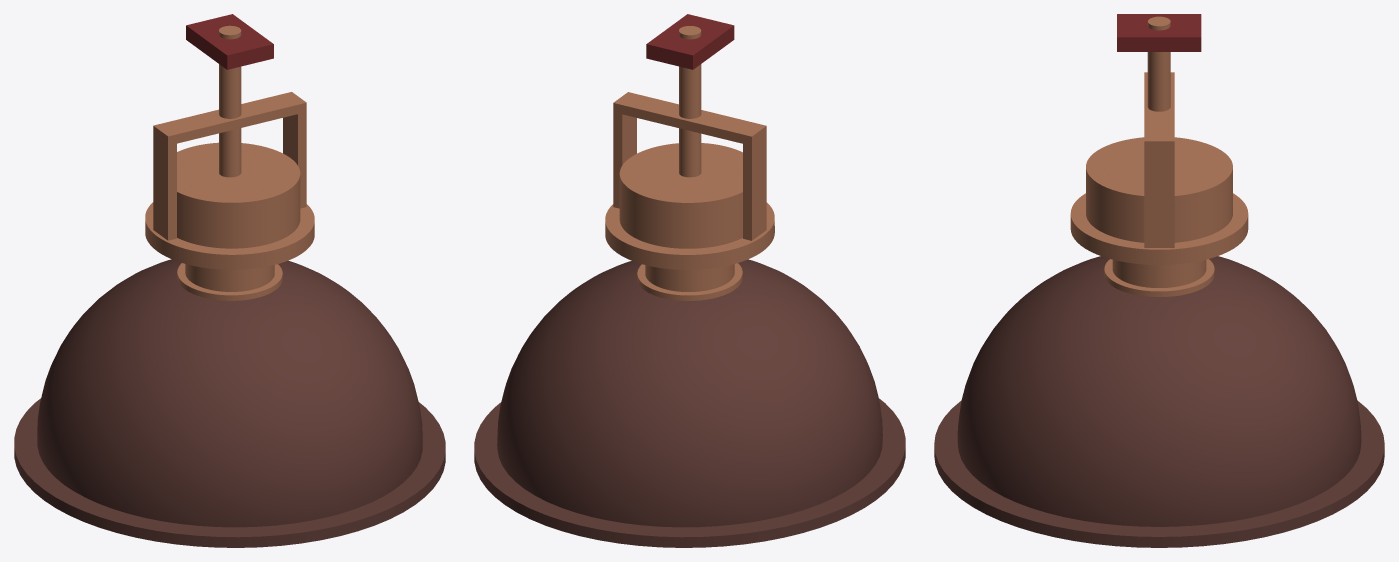
Rendered from Spot light V1.fbx.
3 views of the same model, side by side, from view 1: azimuth 30°, elevation 25°; view 2: azimuth 150°, elevation 25°; view 3: azimuth 270°, elevation 25° (orthographic). The views are drawn at different scales.
Parts seen in each view (by area): view 1: Layer 90, Layer 93, Layer 132; view 2: Layer 90, Layer 93, Layer 132; view 3: Layer 90, Layer 93, Layer 132.
Part boxes in pixels (x1,y1,x2,y2): Layer 90: [14, 259, 445, 547]; Layer 93: [145, 25, 314, 300]; Layer 132: [186, 14, 273, 69]; Layer 90: [474, 259, 905, 547]; Layer 93: [605, 26, 774, 300]; Layer 132: [646, 14, 734, 69]; Layer 90: [934, 256, 1384, 547]; Layer 93: [1070, 16, 1248, 296]; Layer 132: [1117, 14, 1201, 51].
Size of the model in its own units: 0.4323 by 0.4448 by 0.4729.
